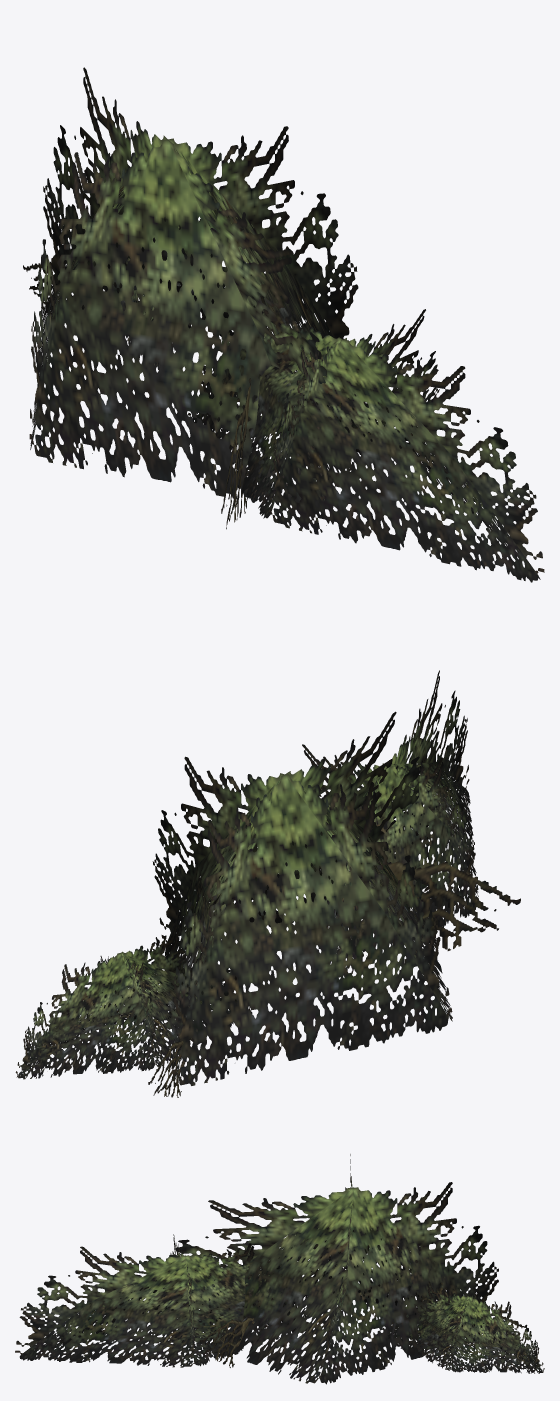
Rendered from duskwoodbush01.glb.
3 views of the same model, one above another, from view 1: azimuth 30°, elevation 25°; view 2: azimuth 150°, elevation 25°; view 3: azimuth 270°, elevation 25° (orthographic). The views are drawn at different scales.
Bounding box in the file's own units: 6.68 × 6.35 × 15.82.
1 material, 1 textured.
